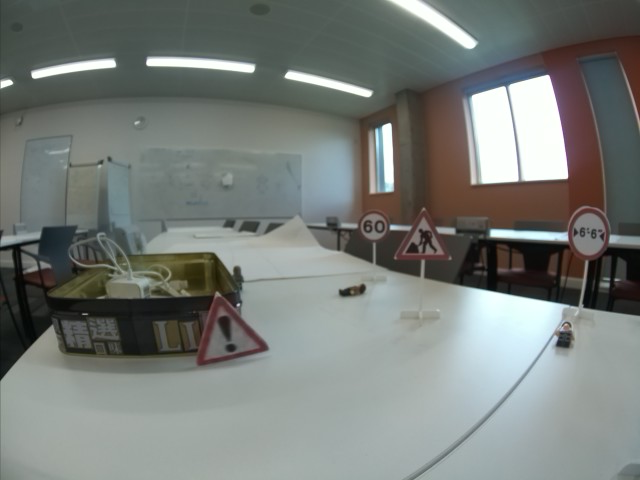60mph: (359, 210, 391, 243)
6ft6: (568, 205, 609, 261)
Lego Man: (553, 320, 578, 349), (338, 281, 369, 298)
Roadworks: (393, 209, 455, 262)
Warning: (196, 296, 270, 369)
